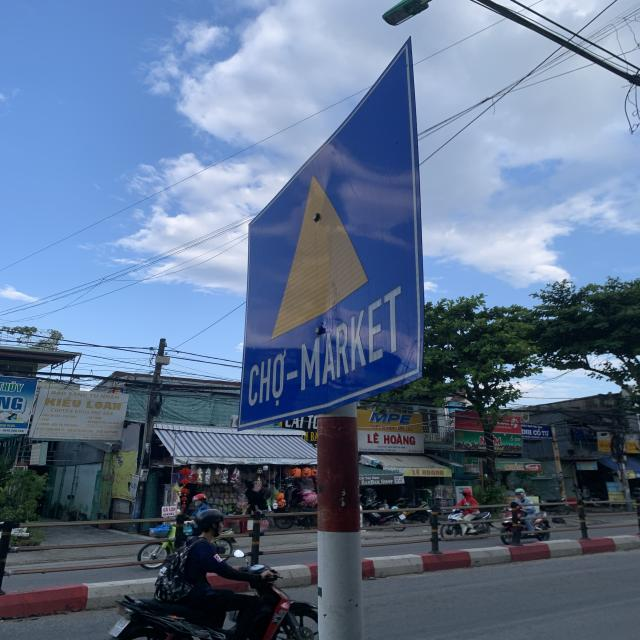Cho_Quay_Xe: (242, 65, 422, 420)
